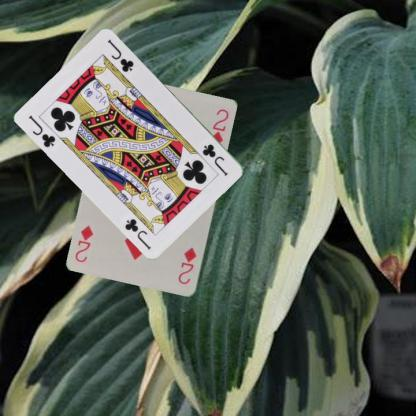2d: (176, 245, 198, 286)
Jc: (26, 113, 57, 149), (200, 141, 229, 177)
